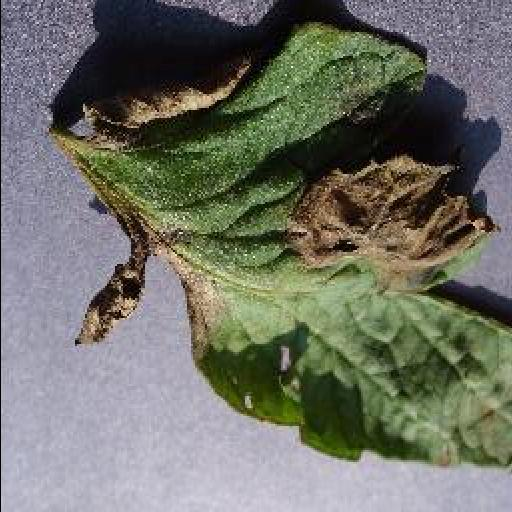disease_tomato: (56, 20, 512, 472)
